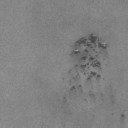iron sheet ash: (75, 32, 108, 50), (91, 61, 102, 70), (91, 70, 100, 78), (73, 48, 80, 54), (80, 56, 86, 61), (70, 85, 76, 90), (80, 64, 87, 68), (84, 48, 88, 53), (89, 56, 94, 60)
